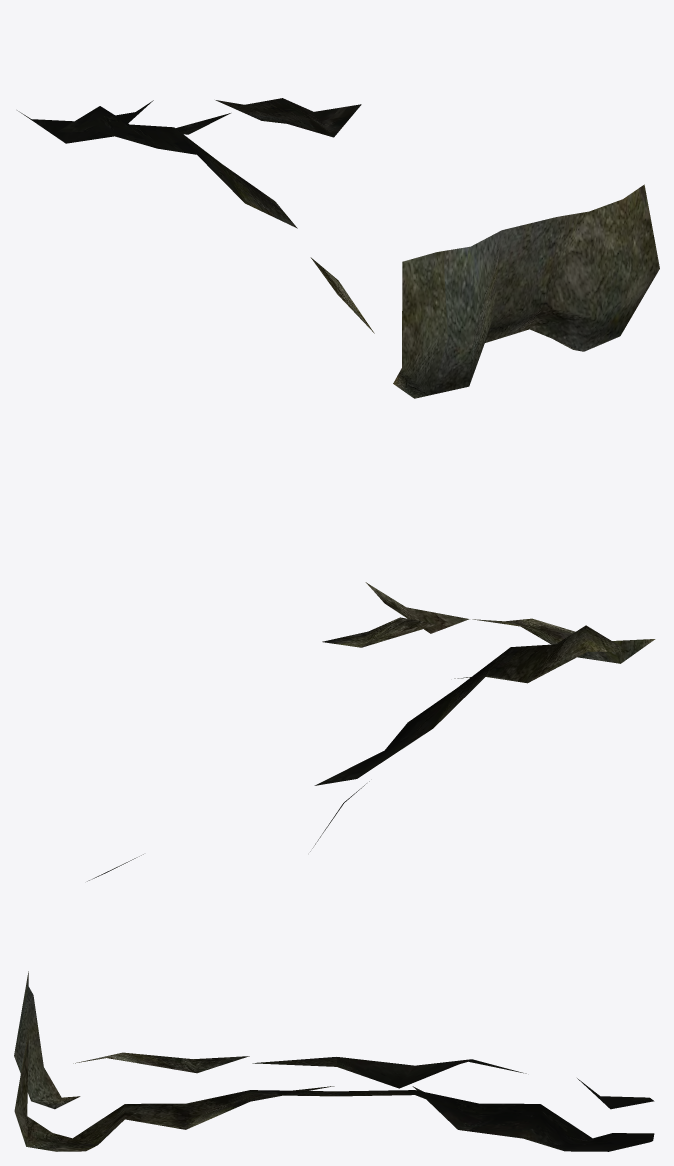
3 renders of one model, top to bottom at view 1: azimuth 30°, elevation 25°; view 2: azimuth 150°, elevation 25°; view 3: azimuth 270°, elevation 25°, orthographic. The views are drawn at different scales.
Parts seen in each view (by area): view 1: model_object20; view 2: model_object20; view 3: model_object20.
Part boxes in pixels (x1,y1,x2,y2): model_object20: [17, 98, 659, 398]; model_object20: [87, 582, 655, 881]; model_object20: [14, 971, 654, 1151].
Size of the model in its own units: 4.82 by 3.02 by 12.69.
2 materials, 2 textured.
